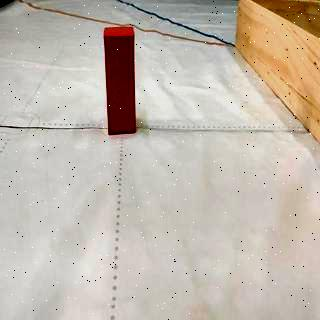redbox: (104, 25, 135, 135)
